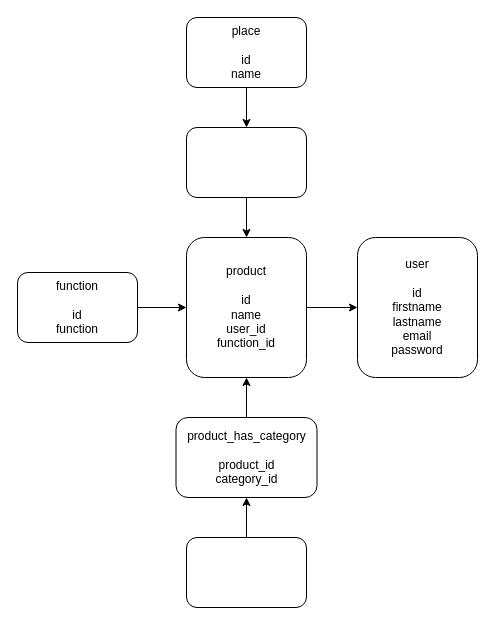
Image size: 495x625. Some labels were removed from this diagram. The shapes that lost their labels are listed below. From the top down, each one's box as (x1, y1, x2, y2) in pixels, then its label:
(186, 126, 306, 198): product_has_place product_id place_id
(186, 536, 306, 608): category id name
